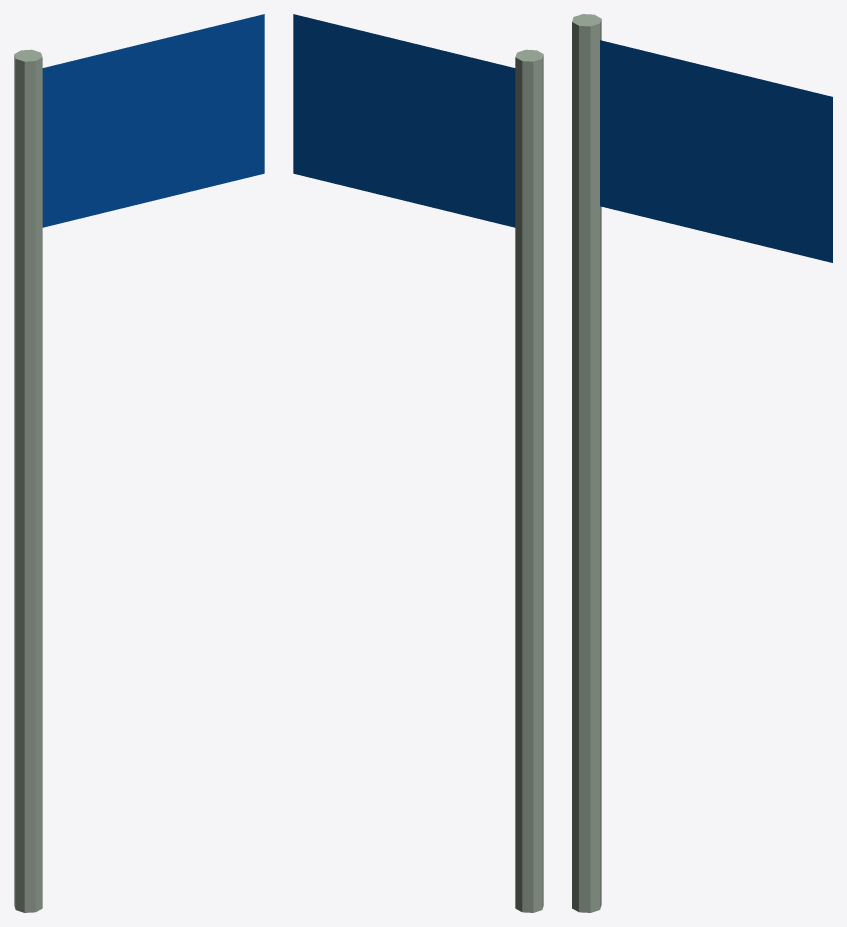
The model's file is flag_1.glb.
3 views of the same model, side by side, from view 1: azimuth 30°, elevation 25°; view 2: azimuth 150°, elevation 25°; view 3: azimuth 330°, elevation 25° (orthographic). The views are drawn at different scales.
Parts seen in each view (by area): view 1: flag, base; view 2: flag, base; view 3: flag, base.
Part boxes in pixels (left/top/right/bottom): flag: left=42, top=14, right=264, bottom=227; base: left=14, top=49, right=42, bottom=912; flag: left=293, top=14, right=515, bottom=227; base: left=515, top=49, right=543, bottom=912; flag: left=600, top=40, right=832, bottom=262; base: left=572, top=14, right=601, bottom=912.
Size of the model in its own units: 0.1225 by 0.4 by 0.0125.
